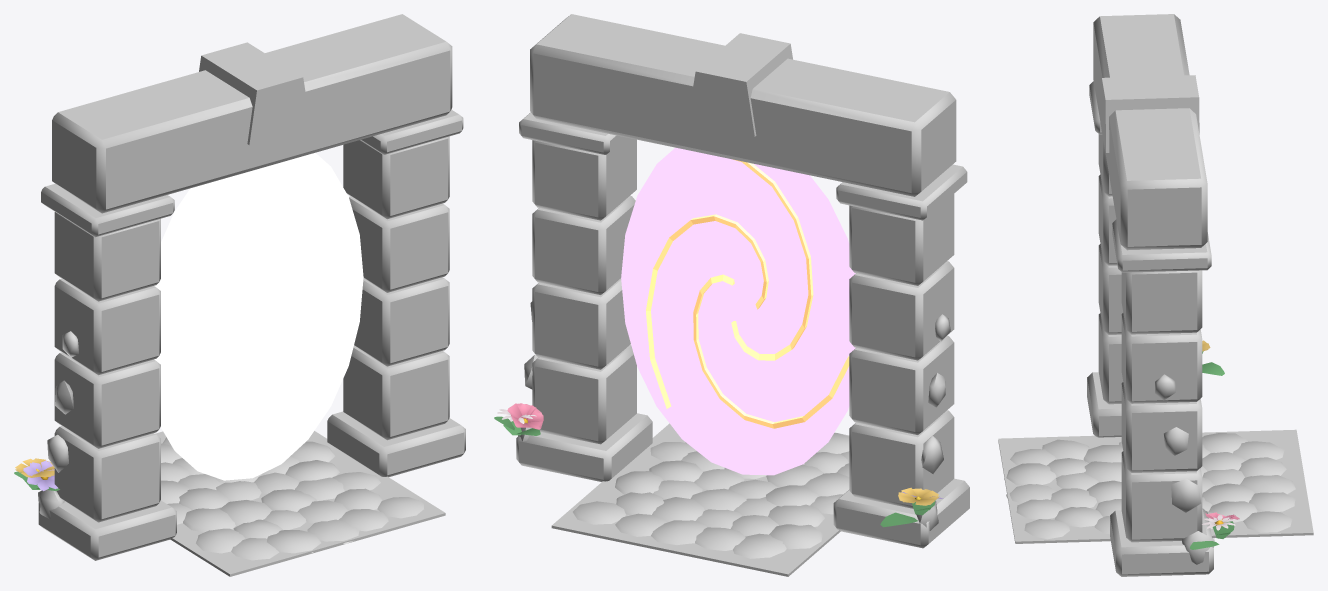
File: zon_diaryring_discord_lite.glb
The picture shows the model from 3 angles, left to right: view 1: azimuth 30°, elevation 25°; view 2: azimuth 150°, elevation 25°; view 3: azimuth 270°, elevation 25°; orthographic projection. The views are drawn at different scales.
Visible parts, largest first — view 1: SM_zon_diaryring_discord_lite_kit_diaryring_discord_x0_z0, ANIM_bld_discord_lite_swirl__0, SM_zon_diaryring_discord_lite_vc_palette_x0_z0; view 2: SM_zon_diaryring_discord_lite_kit_diaryring_discord_x0_z0, ANIM_bld_discord_lite_swirl__0, SM_zon_diaryring_discord_lite_vc_palette_x0_z0; view 3: SM_zon_diaryring_discord_lite_kit_diaryring_discord_x0_z0, SM_zon_diaryring_discord_lite_vc_palette_x0_z0.
Boxes of the visible parts, x1=… form: SM_zon_diaryring_discord_lite_kit_diaryring_discord_x0_z0: x1=38, y1=14, x2=465, y2=576; ANIM_bld_discord_lite_swirl__0: x1=154, y1=152, x2=363, y2=480; SM_zon_diaryring_discord_lite_vc_palette_x0_z0: x1=14, y1=458, x2=59, y2=491; SM_zon_diaryring_discord_lite_kit_diaryring_discord_x0_z0: x1=516, y1=14, x2=969, y2=576; ANIM_bld_discord_lite_swirl__0: x1=621, y1=147, x2=855, y2=475; SM_zon_diaryring_discord_lite_vc_palette_x0_z0: x1=494, y1=403, x2=943, y2=527; SM_zon_diaryring_discord_lite_kit_diaryring_discord_x0_z0: x1=998, y1=14, x2=1313, y2=576; SM_zon_diaryring_discord_lite_vc_palette_x0_z0: x1=1190, y1=340, x2=1239, y2=549.
Size of the model in its own units: 4.16 by 4.05 by 2.89.
